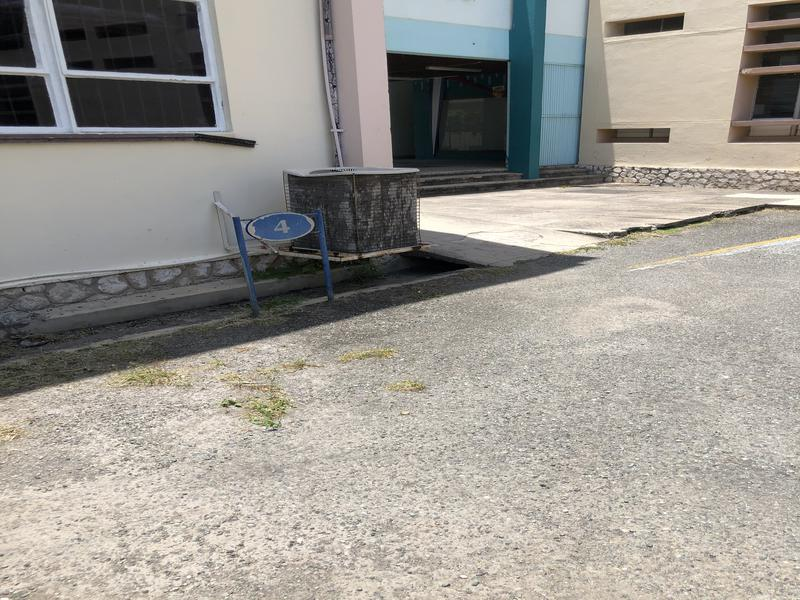18.0053530_-76.7490375_signatentrancetoscitech: (194, 205, 337, 316)
